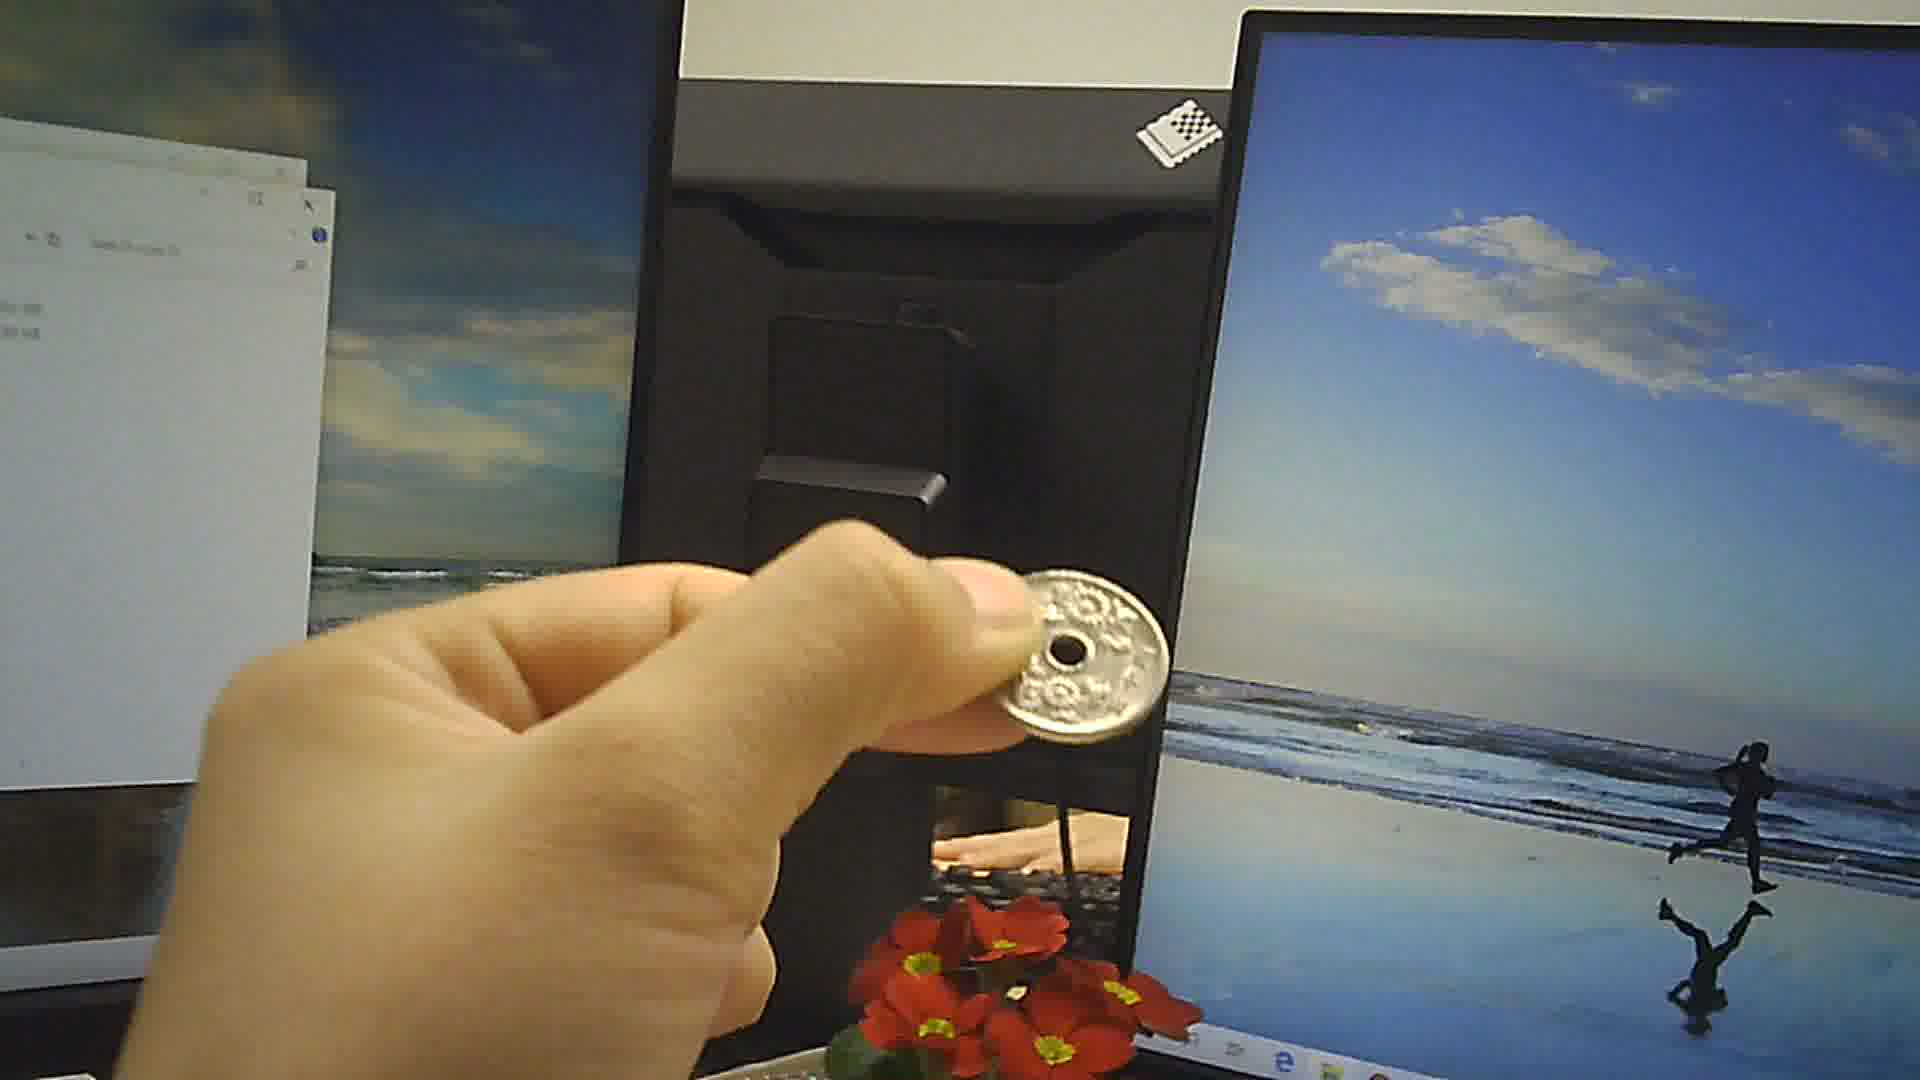50 Yen: (967, 553, 1182, 752)
